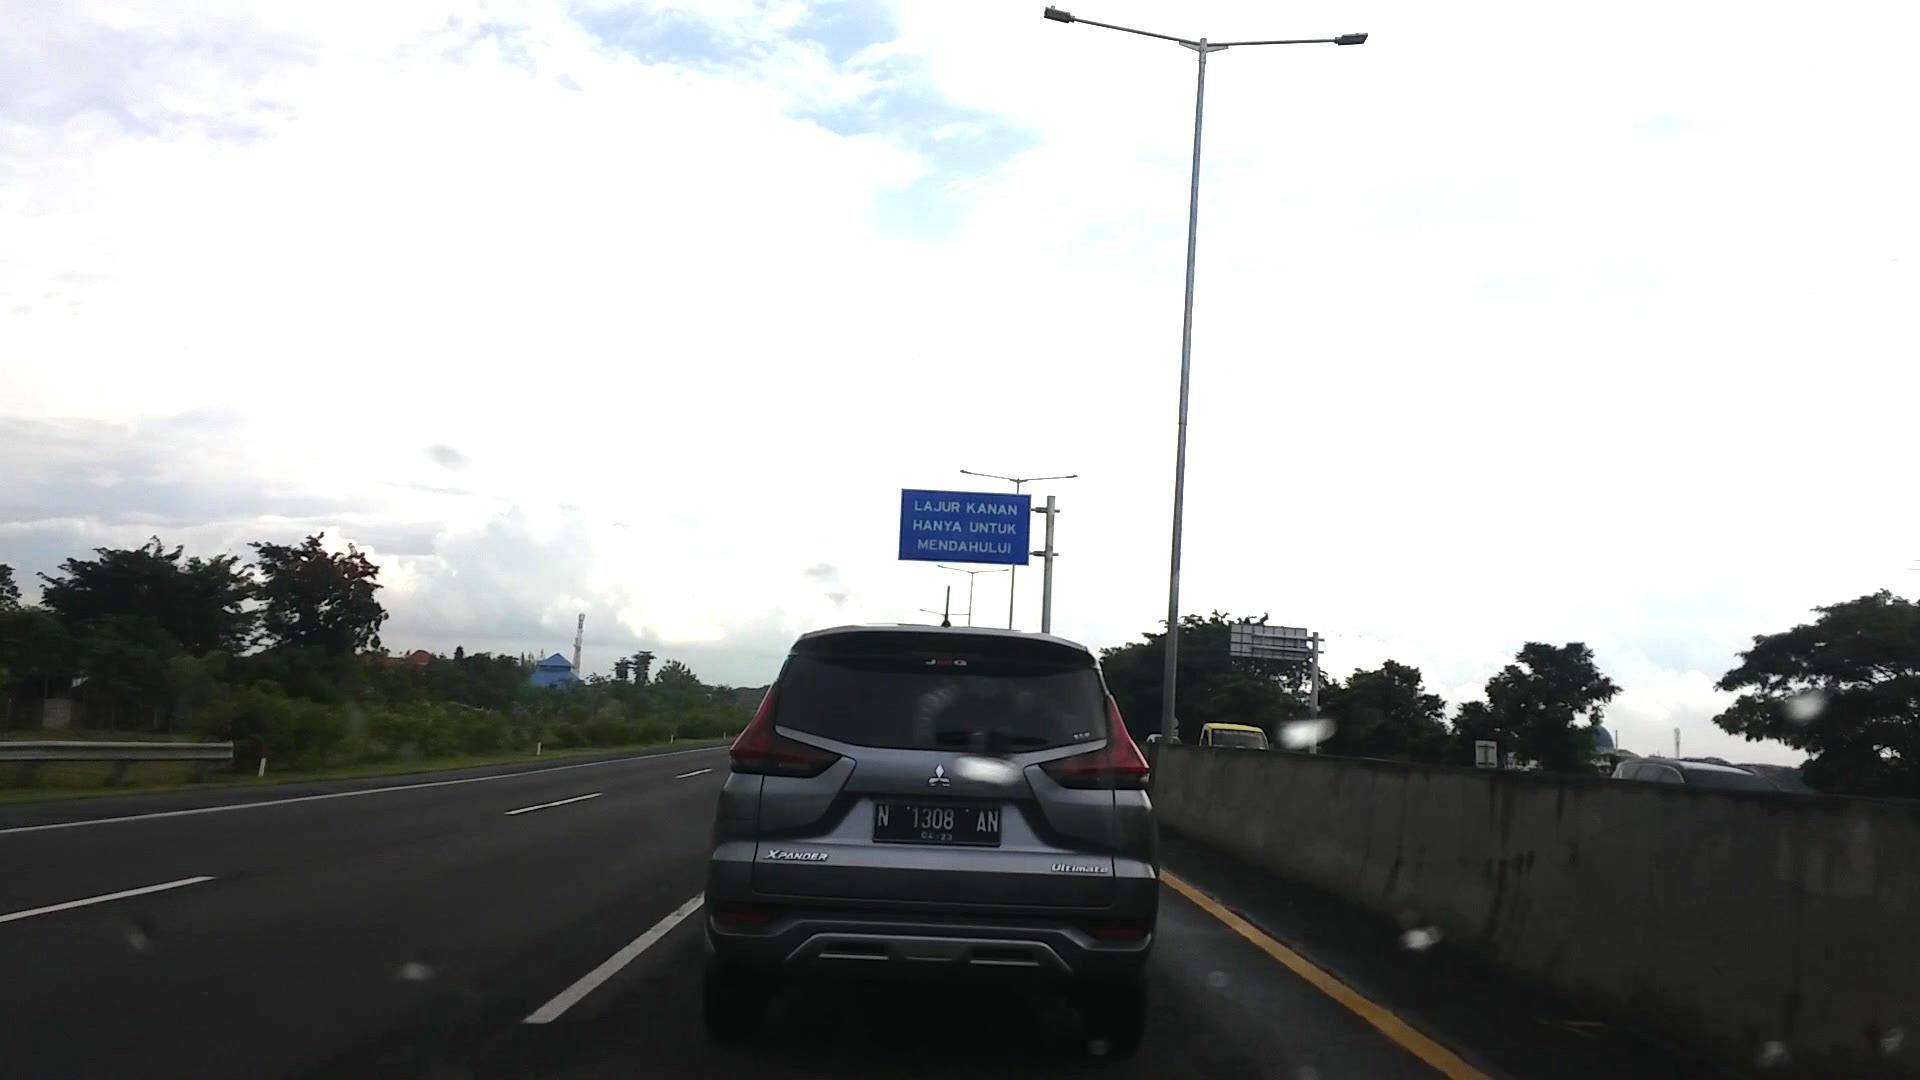plate_positive: (872, 800, 1000, 847)
